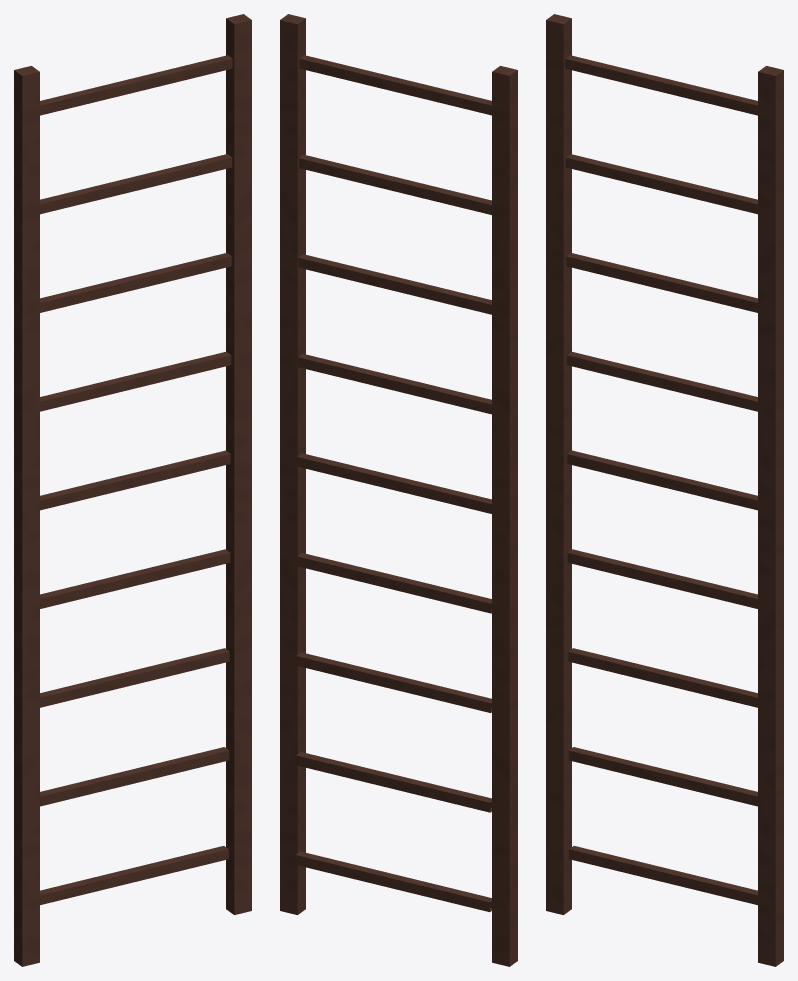
File: Ladder.fbx
3 renders of one model, left to right at view 1: azimuth 30°, elevation 25°; view 2: azimuth 150°, elevation 25°; view 3: azimuth 330°, elevation 25°, orthographic.
Parts seen in each view (by area): view 1: Cube; view 2: Cube; view 3: Cube.
Boxes of the visible parts, bbox=[...] form: Cube: bbox=[14, 14, 251, 966]; Cube: bbox=[280, 14, 517, 966]; Cube: bbox=[546, 14, 783, 966].
Bounding box in the file's own units: 135 × 501 × 10.6.
